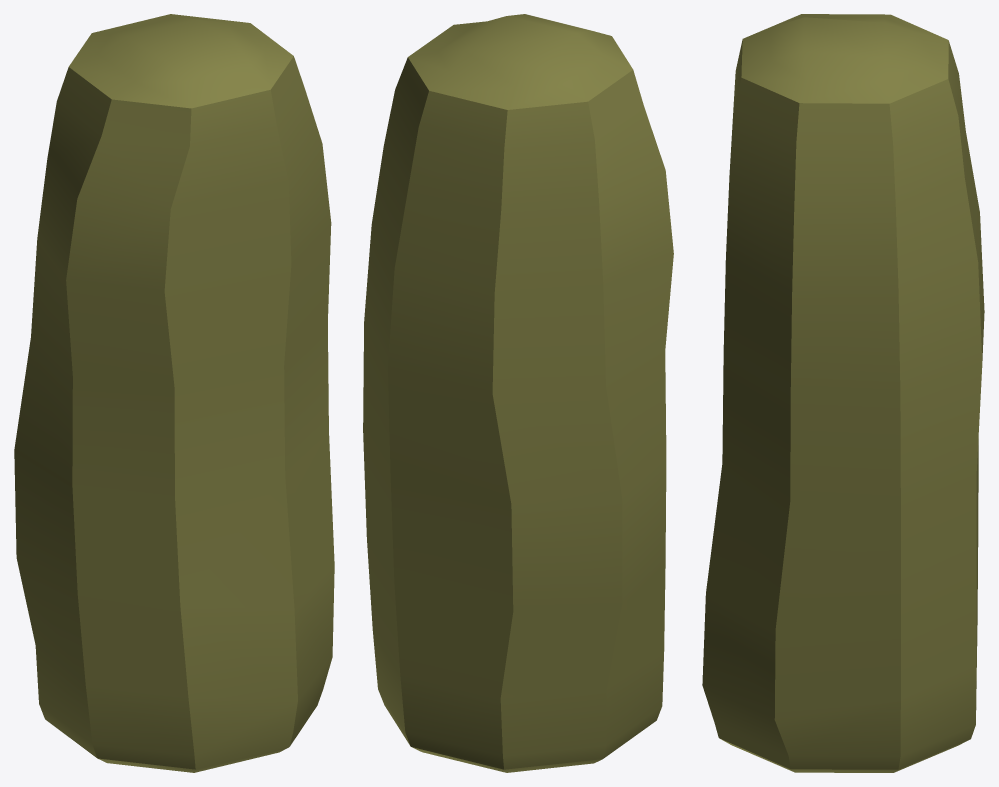
The model's file is bushpillar.fbx.
3 renders of one model, left to right at view 1: azimuth 30°, elevation 25°; view 2: azimuth 150°, elevation 25°; view 3: azimuth 270°, elevation 25°, orthographic.
Parts seen in each view (by area): view 1: Cube.008; view 2: Cube.008; view 3: Cube.008.
Boxes of the visible parts, bbox=[...] form: Cube.008: bbox=[14, 14, 334, 772]; Cube.008: bbox=[363, 14, 673, 772]; Cube.008: bbox=[702, 14, 984, 772].
Bounding box in the file's own units: 1.99 × 4.97 × 1.82.
